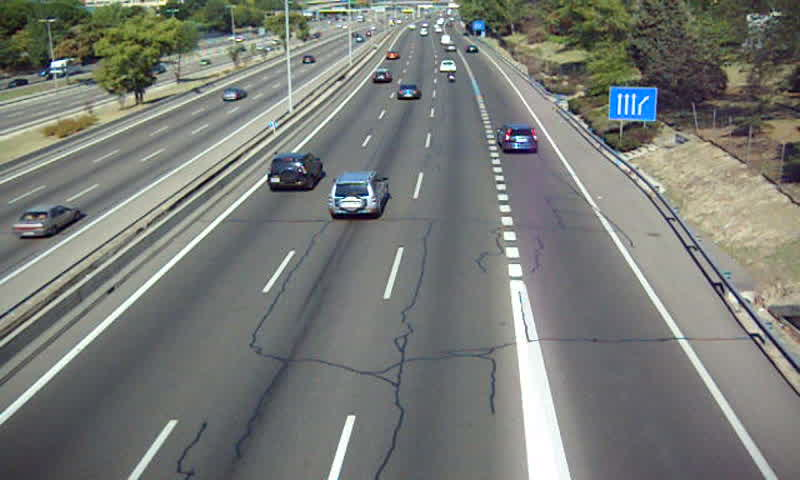car: (329, 173, 386, 218), (267, 152, 323, 194), (497, 123, 539, 153), (396, 84, 420, 102), (370, 68, 392, 84), (439, 59, 456, 71)
motorcycle: (445, 71, 456, 84)
